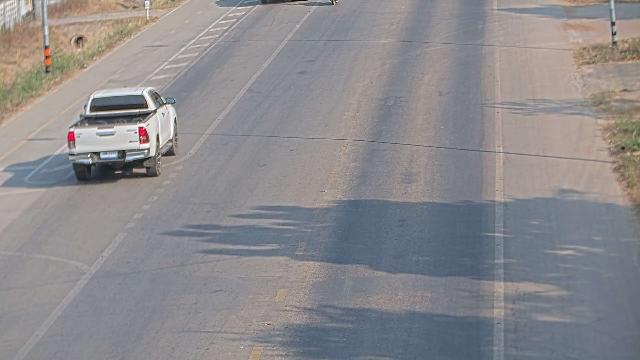pickup-truck: (66, 85, 179, 181)
